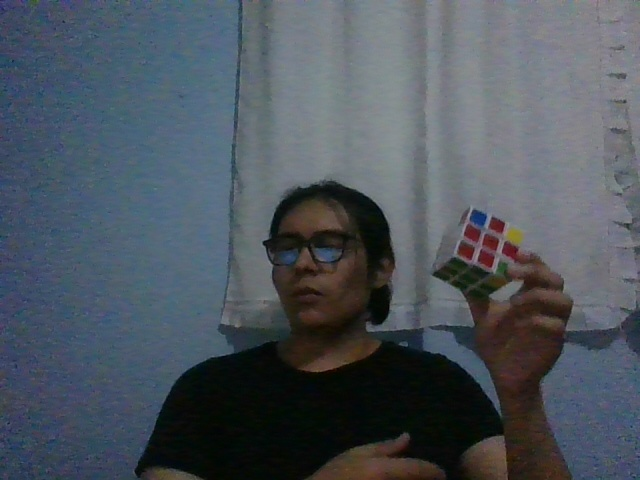rubik: (430, 203, 525, 299)
